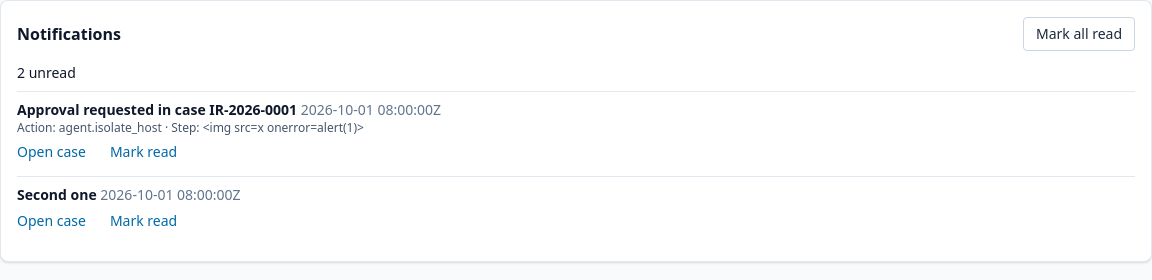
Scenario: NotificationsPage › marks one and then all notifications read
Expected: the text "2 unread" is shown, [17, 63, 76, 82]
Click the button "Mark read" below "Approval requested in case IR-2026-0001": {"x": 144, "y": 152} [98, 136, 189, 168]
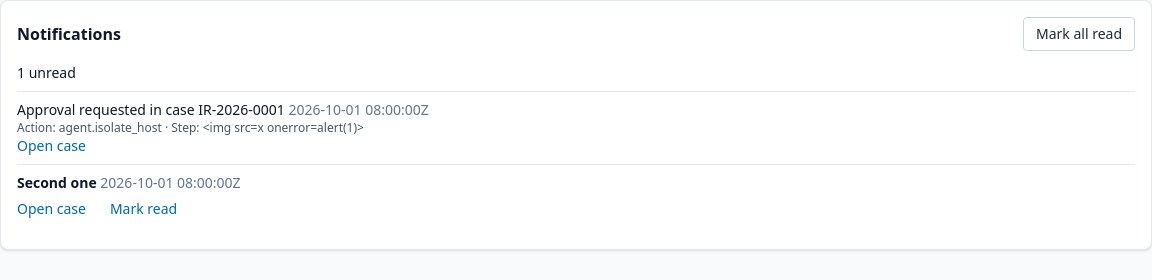
Expected: the text "1 unread" is shown, [17, 63, 76, 82]
Click the button "Mark all read": {"x": 1079, "y": 34} [1023, 17, 1135, 51]
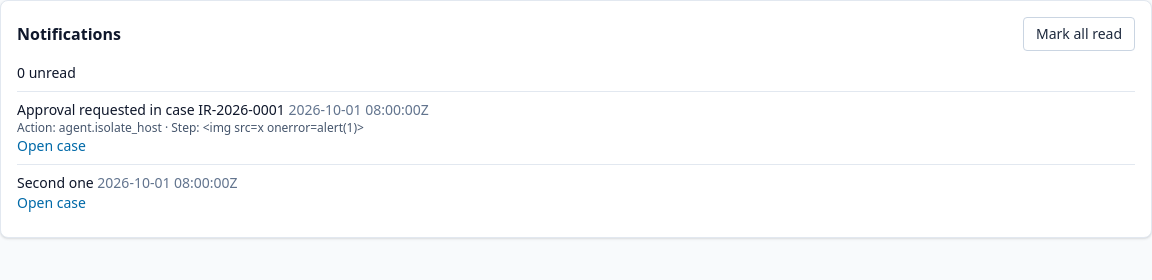
Expected: the text "0 unread" is shown, [17, 63, 76, 82]
Expected: the button "Mark read" is gone
